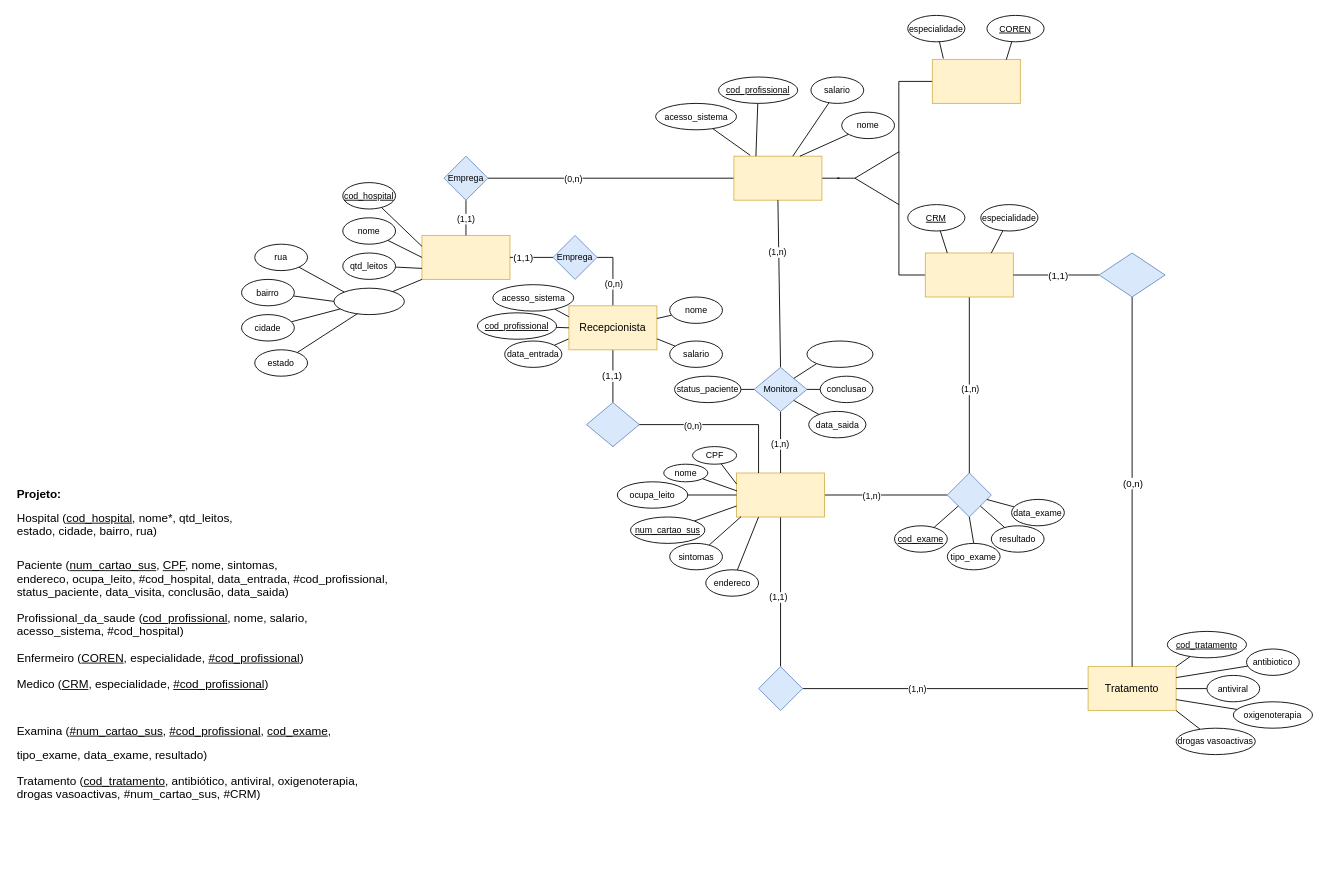
Image size: 1328x876. Some labels were removed from this diagram. Each missing label, with the centre of its shape:
"data_visita" belongs at point (839, 353).
"endereço" belongs at point (368, 301).
"Enfermeiro" belongs at point (975, 81).
"Examina" belongs at point (968, 494).
"Hospital" belongs at point (465, 257).
"Médico" belongs at point (968, 274).
"Paciente" belongs at point (780, 494).
"Preescreve" belongs at point (1131, 274).
"Profissional_da_Saúde" belongs at point (777, 177).
"Realiza" belongs at point (780, 688).
"Registra" belongs at point (612, 424).
